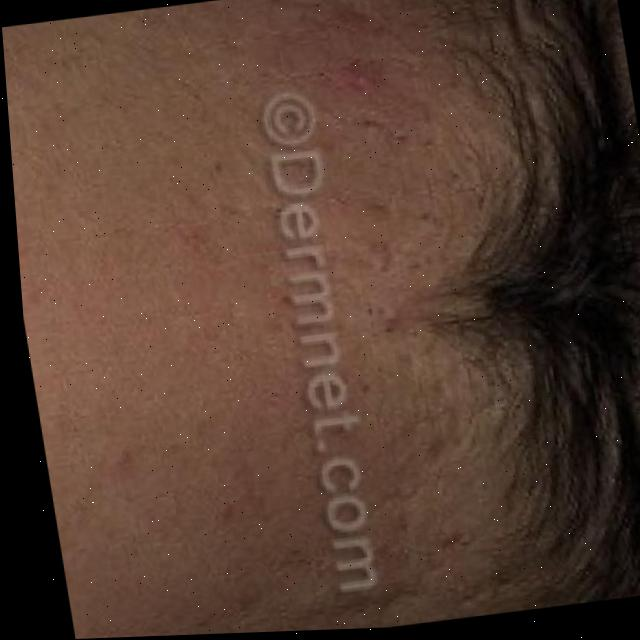Acne: (294, 18, 448, 140)
